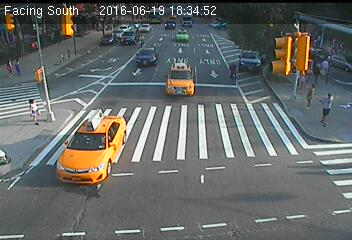neg: (78, 106, 108, 146), (192, 169, 220, 206), (31, 163, 59, 200), (270, 34, 295, 67), (199, 122, 222, 153), (234, 141, 256, 170), (141, 97, 163, 125), (224, 59, 245, 86), (150, 182, 171, 209), (101, 195, 121, 222), (308, 158, 327, 183), (170, 59, 188, 83), (195, 31, 213, 55), (124, 50, 142, 73), (82, 33, 99, 55)
pos: (312, 90, 341, 128), (20, 93, 42, 122), (304, 81, 321, 104), (319, 56, 336, 78), (11, 54, 27, 76), (1, 55, 17, 77)
